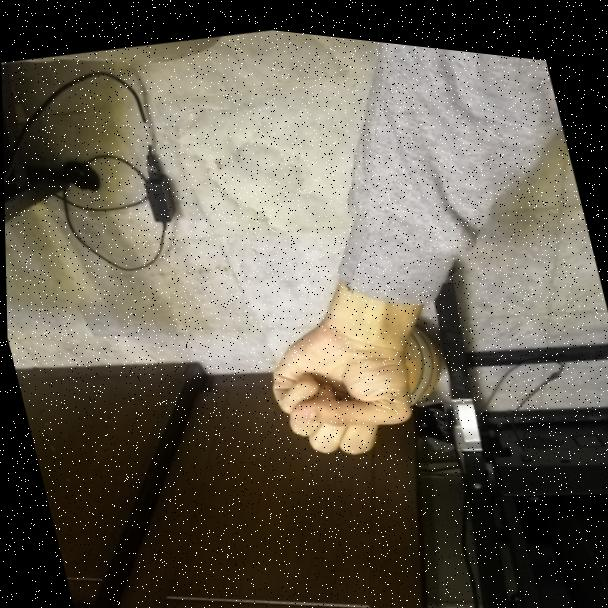five: (227, 281, 438, 484)
